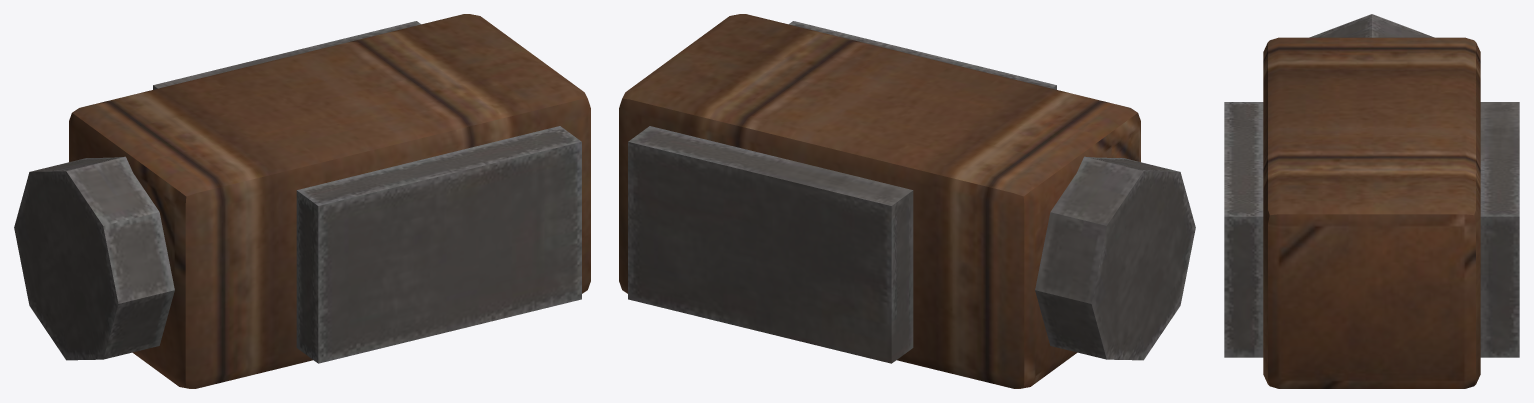
Rendered from splitjaw_brake.glb.
The picture shows the model from 3 angles, left to right: view 1: azimuth 30°, elevation 25°; view 2: azimuth 150°, elevation 25°; view 3: azimuth 270°, elevation 25°; orthographic projection. The views are drawn at different scales.
Parts seen in each view (by area): view 1: splitjaw_brake; view 2: splitjaw_brake; view 3: splitjaw_brake.
Boxes of the visible parts, left/top/right/bottom form: splitjaw_brake: left=14, top=14, right=590, bottom=388; splitjaw_brake: left=619, top=14, right=1195, bottom=388; splitjaw_brake: left=1224, top=14, right=1519, bottom=388.
Bounding box in the file's own units: 0.0625 × 0.026 × 0.038.
1 material, 1 textured.
